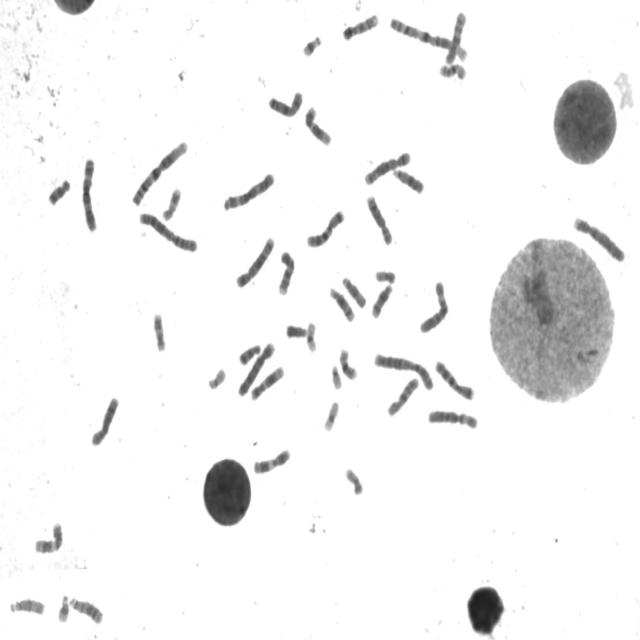A1: (387, 11, 471, 64), (128, 136, 190, 207)
A2: (136, 208, 200, 254), (371, 349, 436, 392)
A3: (221, 168, 277, 213), (79, 153, 100, 233)
B4: (571, 212, 628, 264), (235, 338, 277, 398)
B5: (234, 232, 276, 290), (362, 148, 412, 186)
C10: (385, 373, 421, 418), (442, 6, 468, 66)
C11: (251, 444, 292, 476), (32, 517, 65, 555)
C12: (248, 361, 286, 402), (302, 102, 333, 147)
C6: (417, 276, 451, 334), (426, 405, 480, 431)
C7: (432, 355, 477, 403), (304, 206, 347, 248)
C8: (89, 392, 121, 448), (364, 191, 395, 247)
C9: (340, 9, 380, 42), (276, 247, 296, 297)
D13: (67, 593, 105, 625), (390, 164, 426, 195)
D14: (327, 283, 356, 323), (369, 280, 395, 320)
D15: (339, 272, 368, 310), (7, 594, 47, 617)
E16: (337, 344, 359, 381), (437, 59, 468, 81)
E17: (160, 183, 182, 222), (151, 308, 168, 354)
E18: (46, 174, 72, 207), (237, 340, 262, 366)
F19: (321, 396, 340, 433), (304, 317, 318, 353)
F20: (342, 463, 365, 497), (373, 266, 397, 285)
G21: (300, 31, 324, 58), (55, 590, 71, 624)
G22: (205, 364, 228, 392), (329, 360, 344, 390)
X: (266, 86, 304, 118)
Y: (284, 320, 308, 340)
